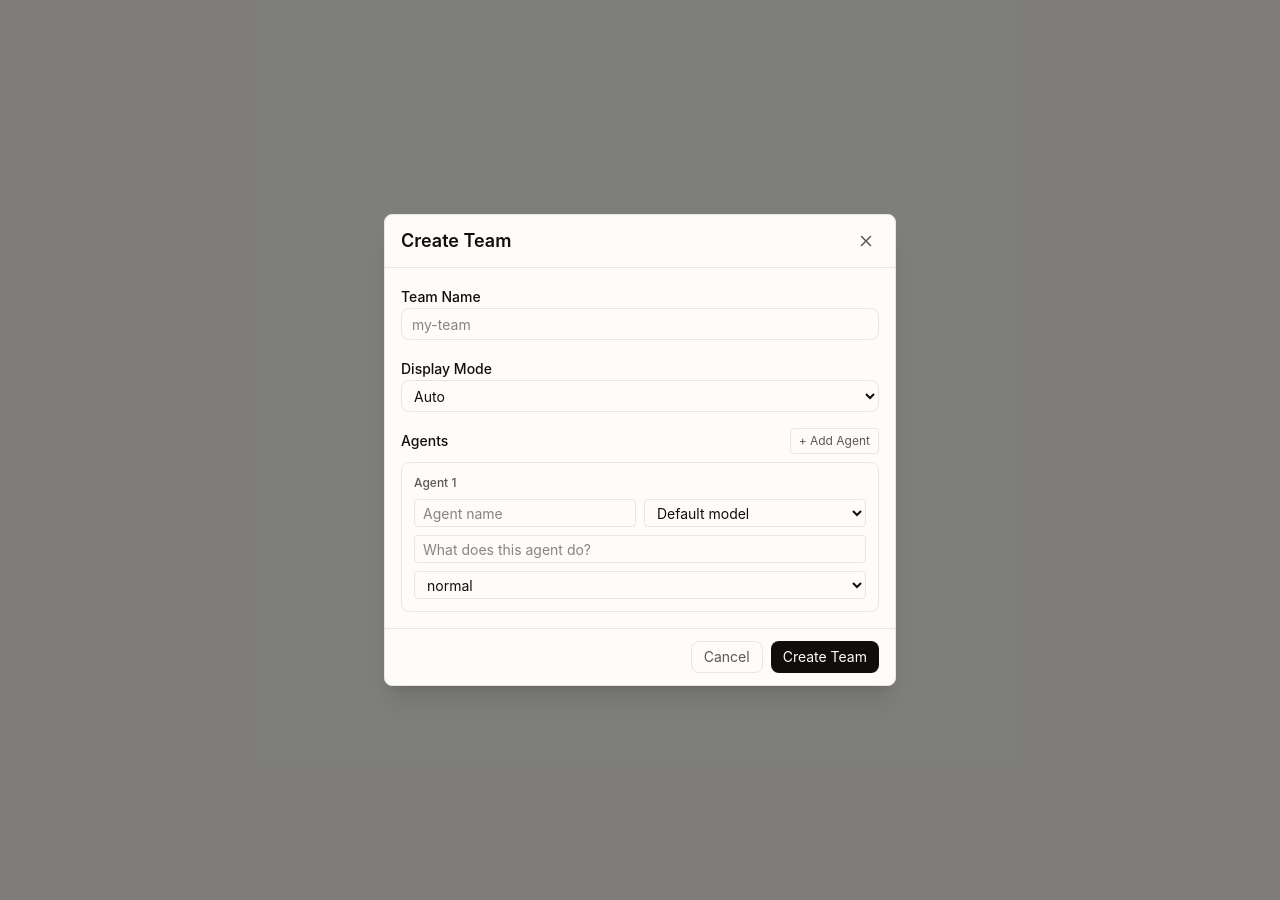
Scenario: TeamCreationDialog › adds an agent form when clicking Add Agent
Click the button with test id "add-agent-button": point(834, 441) [790,428,879,454]
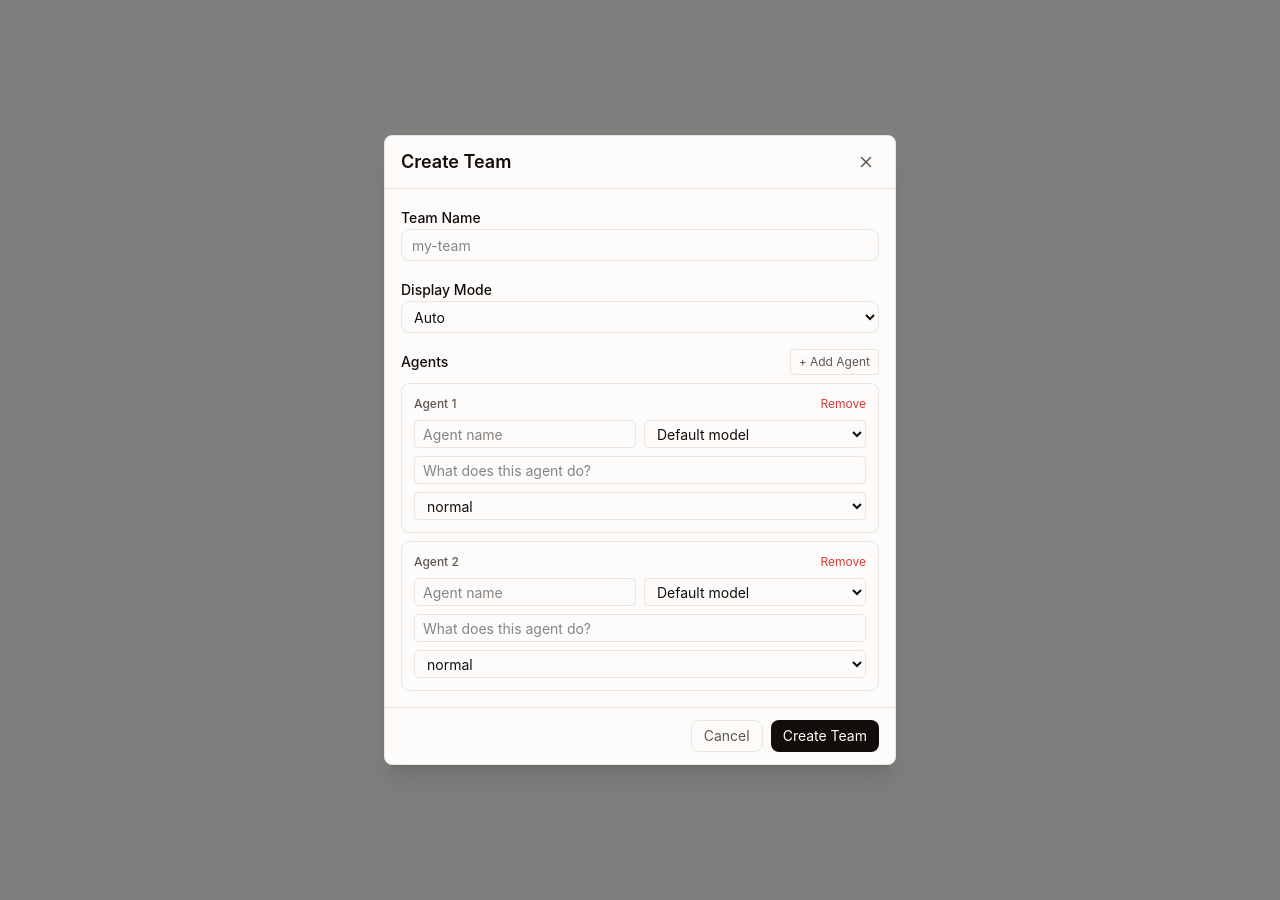
expect the element with test id "agent-form-1" is shown: met, box [401,541,879,691]
